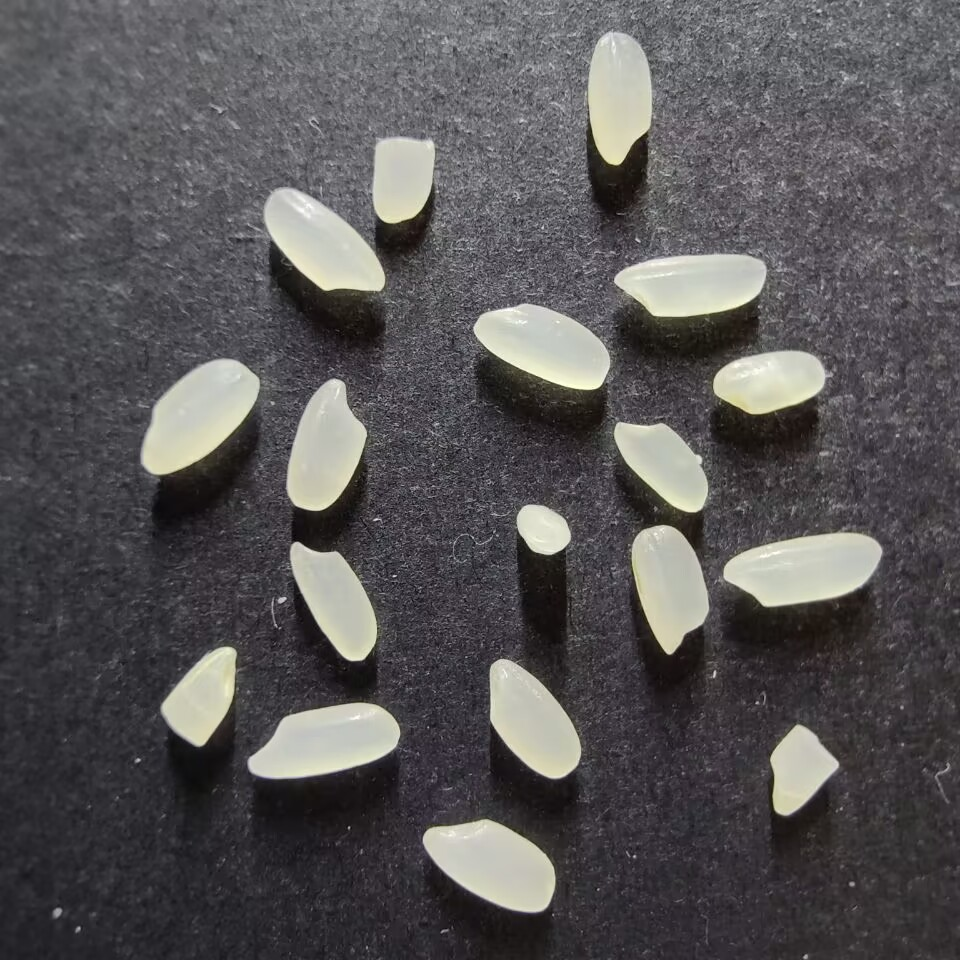broken: (159, 644, 237, 746), (768, 725, 839, 816), (371, 137, 436, 223), (515, 503, 570, 556)
rice: (140, 359, 260, 475), (263, 187, 385, 293), (421, 818, 556, 913), (722, 532, 883, 607), (472, 303, 610, 390), (247, 702, 399, 779), (488, 658, 581, 779), (285, 378, 368, 511), (288, 540, 378, 662), (630, 524, 710, 656), (613, 253, 767, 317), (612, 421, 708, 513), (586, 31, 652, 164), (712, 350, 827, 415)
